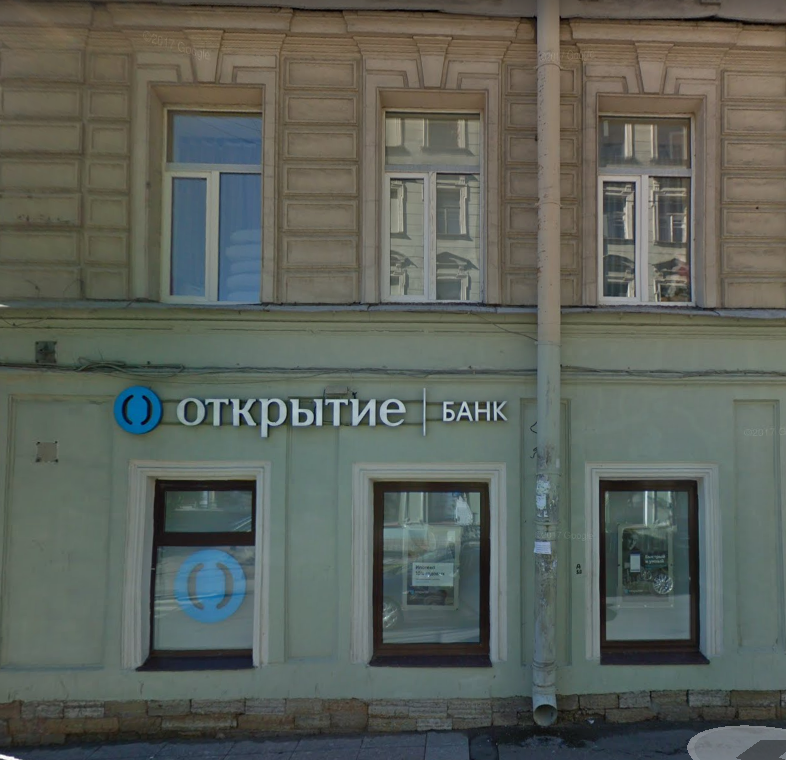signboard: (109, 376, 509, 447)
win_ad: (169, 544, 245, 628)
window: (152, 102, 270, 308), (381, 108, 489, 305), (147, 472, 257, 665), (373, 483, 486, 661), (595, 110, 696, 306), (600, 472, 700, 665)
